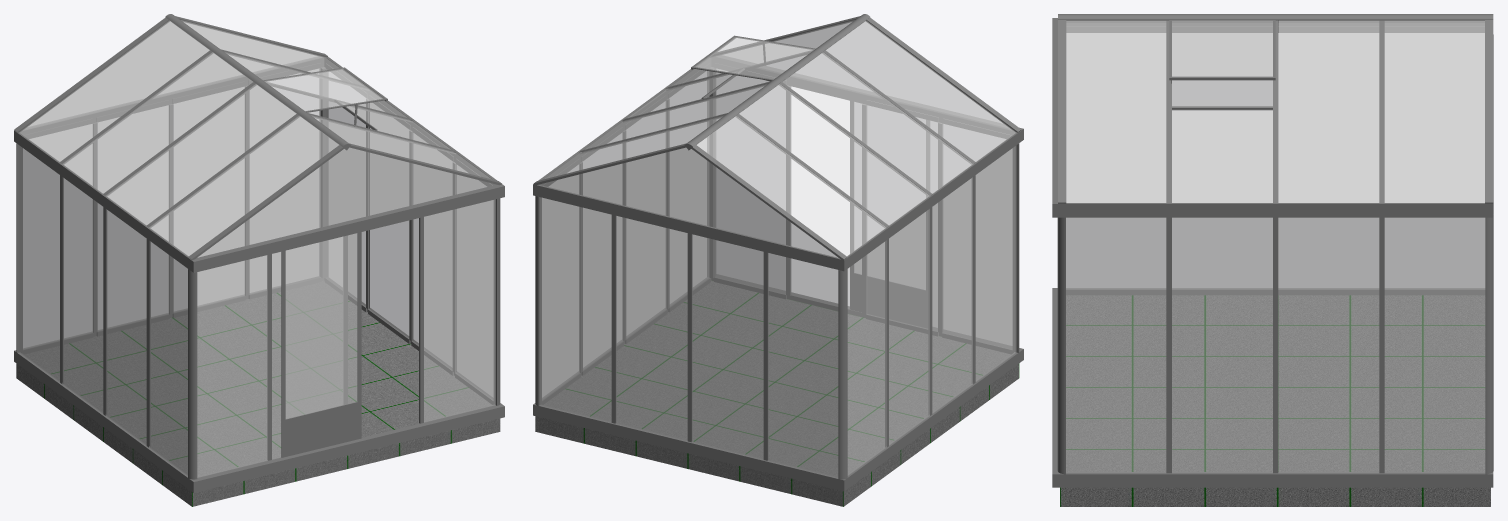
Rendered from sh-contrib-greenhouse.glb.
3 renders of one model, left to right at view 1: azimuth 30°, elevation 25°; view 2: azimuth 150°, elevation 25°; view 3: azimuth 270°, elevation 25°, orthographic. The views are drawn at different scales.
Parts seen in each view (by area): view 1: 13_13, 1_1, 34_34; view 2: 13_13, 1_1, 34_34; view 3: 13_13, 34_34, 1_1.
Part boxes in pixels (box(x1,y1,x2,y2)): 13_13: box(19, 20, 495, 477); 1_1: box(14, 14, 504, 492); 34_34: box(16, 281, 500, 506); 13_13: box(539, 20, 1016, 477); 1_1: box(533, 14, 1023, 491); 34_34: box(535, 280, 1019, 506); 13_13: box(1066, 20, 1485, 472); 34_34: box(1060, 295, 1490, 506); 1_1: box(1052, 14, 1493, 487).
Bounding box in the file's own units: 1 × 1 × 1.
3 materials, 1 textured.
